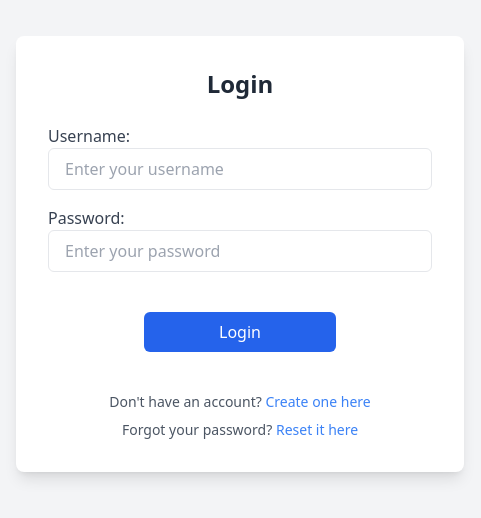
LoginForm Component › should show an error message if fields are empty on submission
# Click the submit button without entering any credentials
Click the button "Login" at (240, 332), box [144,312,336,352]
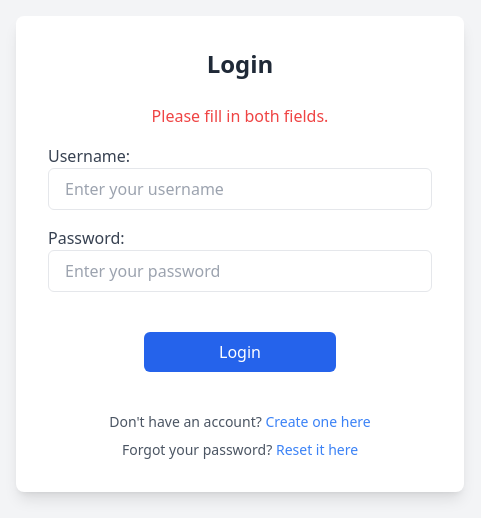
Result: the text "Please fill in both fields." is shown at [152,105,328,127]
